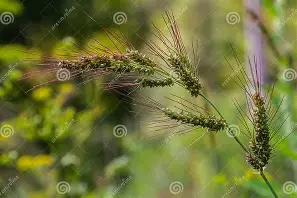weed: (45, 43, 202, 91), (234, 52, 279, 171), (148, 100, 226, 136)
